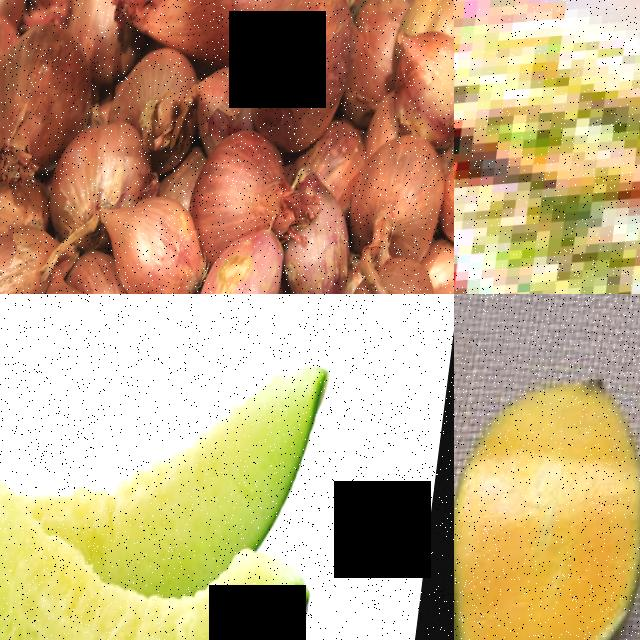lobster tails: (454, 0, 640, 211)
melon: (0, 547, 342, 640)
onion: (259, 0, 359, 158), (0, 23, 101, 162), (353, 138, 454, 274), (204, 127, 300, 260), (59, 121, 154, 230), (119, 193, 209, 294), (188, 0, 292, 75), (391, 31, 454, 149), (202, 234, 296, 294), (0, 224, 60, 294), (345, 266, 454, 294)
